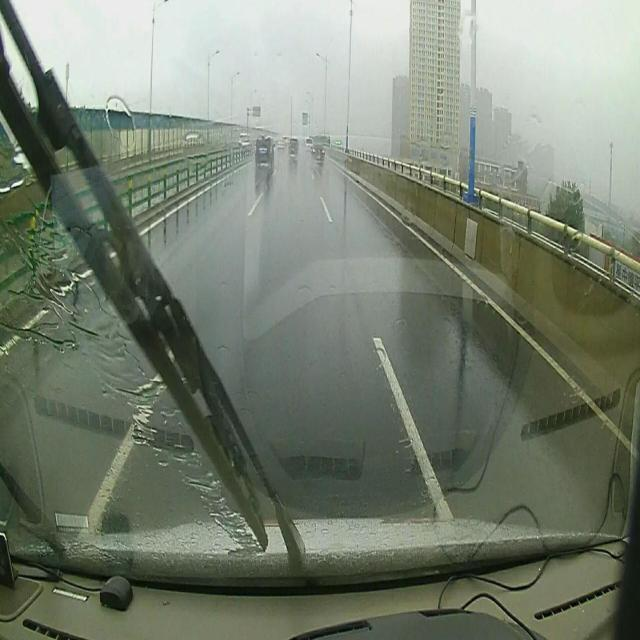car: (254, 136, 274, 172), (310, 140, 324, 163), (288, 134, 298, 162)
